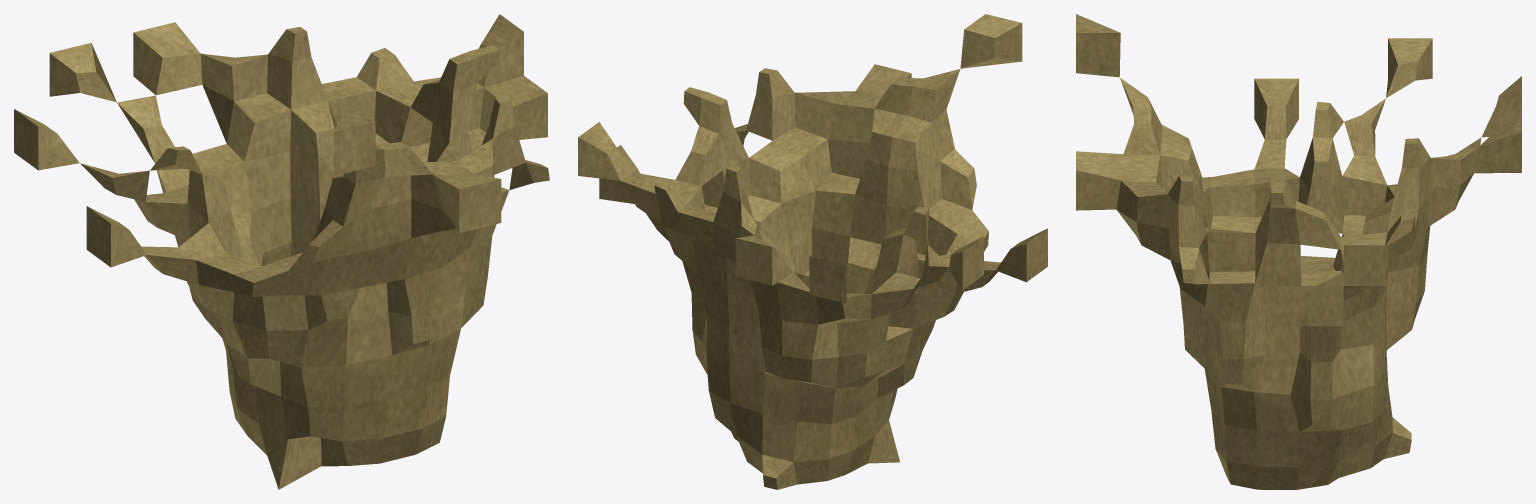
The model's file is flora_grass_tuft.glb.
3 views of the same model, side by side, from view 1: azimuth 30°, elevation 25°; view 2: azimuth 150°, elevation 25°; view 3: azimuth 270°, elevation 25° (orthographic). The views are drawn at different scales.
Visible parts, largest first — view 1: wilds_flora_grass_tuft; view 2: wilds_flora_grass_tuft; view 3: wilds_flora_grass_tuft.
Boxes of the visible parts, x1=… form: wilds_flora_grass_tuft: x1=14, y1=14, x2=549, y2=489; wilds_flora_grass_tuft: x1=578, y1=14, x2=1047, y2=489; wilds_flora_grass_tuft: x1=1076, y1=14, x2=1521, y2=489.
Size of the model in its own units: 0.6875 by 0.625 by 0.625.
Materials: 1 (1 with a texture image).
